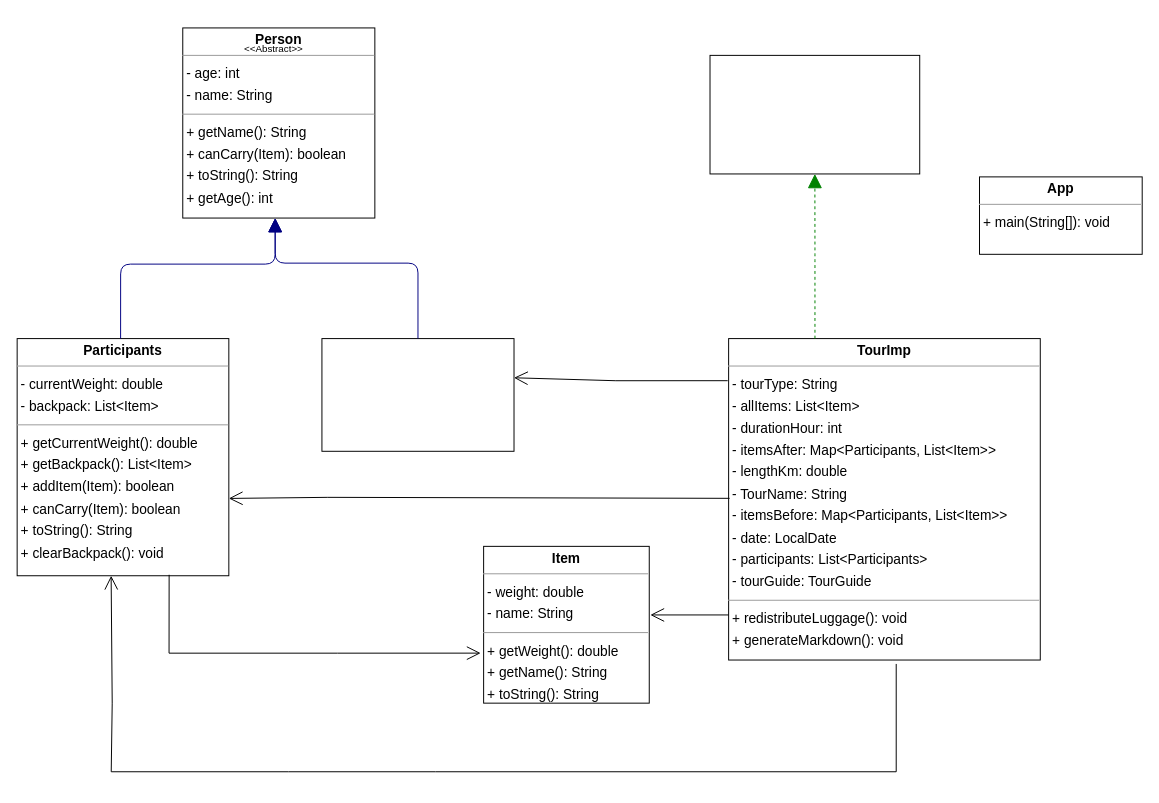
This 1159x803 diagram has some shape labels left out. Here are the shapes that lost their labels. From the top down, the box of each, then its label:
(709, 54, 920, 174): <<interface>> Tour + redistributeLuggage(): void + generateMarkdown(): void
(321, 338, 514, 451): TourGuide + toString(): String + canCarry(Item): boolean
